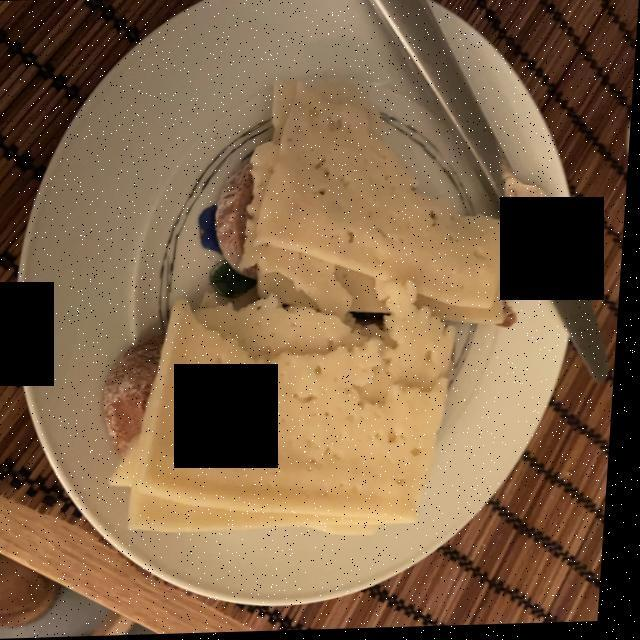bread: (106, 151, 258, 458)
cheese: (124, 77, 509, 551)
